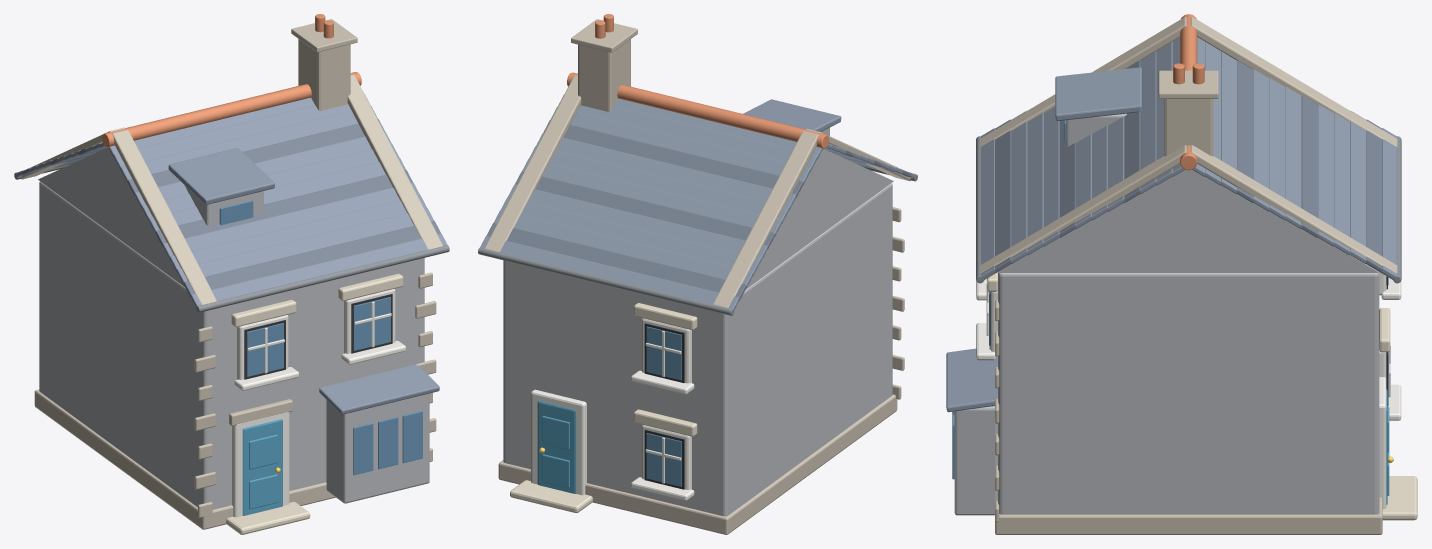
Rendered from cottage_c.fbx.
3 views of the same model, side by side, from view 1: azimuth 30°, elevation 25°; view 2: azimuth 150°, elevation 25°; view 3: azimuth 270°, elevation 25° (orthographic). The views are drawn at different scales.
Parts seen in each view (by area): view 1: Visual; view 2: Visual; view 3: Visual.
Part boxes in pixels (<box>): Visual: <box>14,14,449,534</box>; Visual: <box>478,14,917,534</box>; Visual: <box>946,14,1417,534</box>.
Size of what is drawn, in the model's own units: 615 by 933 by 865.
